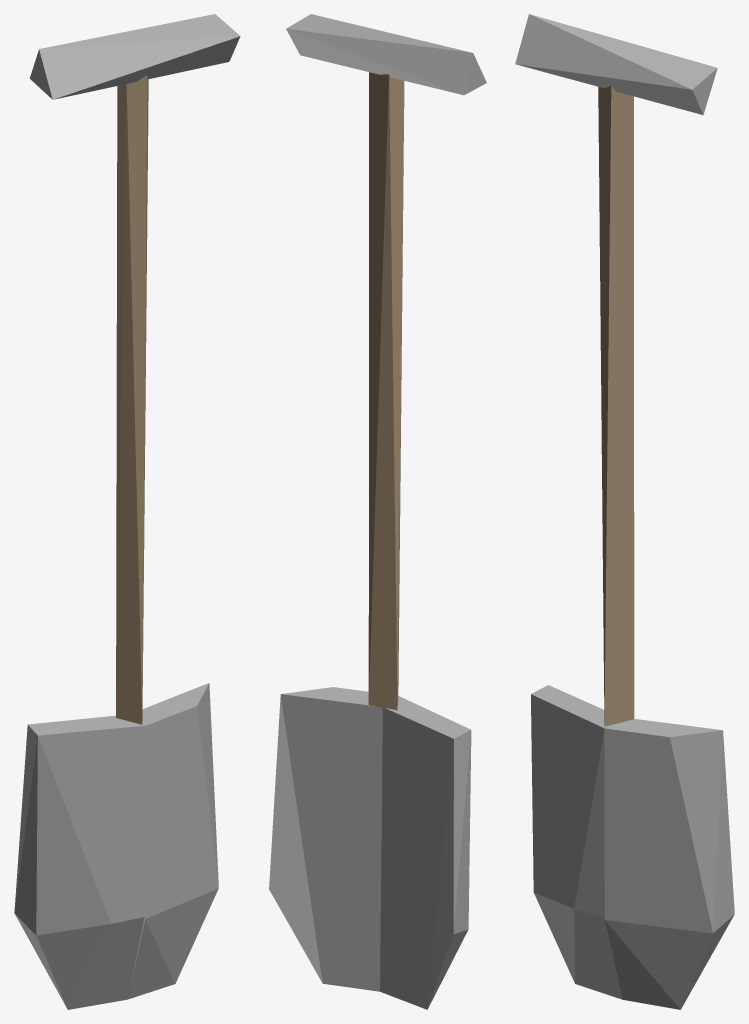
The model's file is IronShovel.glb.
3 renders of one model, left to right at view 1: azimuth 30°, elevation 25°; view 2: azimuth 150°, elevation 25°; view 3: azimuth 330°, elevation 25°, orthographic.
Parts seen in each view (by area): view 1: Pelle.002, Manche.002, Pommeau.002; view 2: Pelle.002, Manche.002, Pommeau.002; view 3: Pelle.002, Manche.002, Pommeau.002.
Boxes of the visible parts, x1,y1,x2,y2 form: Pelle.002: (14, 683, 218, 1009); Manche.002: (116, 75, 148, 724); Pommeau.002: (29, 14, 240, 99); Pelle.002: (269, 687, 471, 1009); Manche.002: (368, 72, 404, 710); Pommeau.002: (286, 14, 486, 95); Pelle.002: (531, 685, 734, 1009); Manche.002: (598, 86, 634, 726); Pommeau.002: (515, 14, 717, 115).
Size of the model in its own units: 0.2047 by 1.02 by 0.0767.
